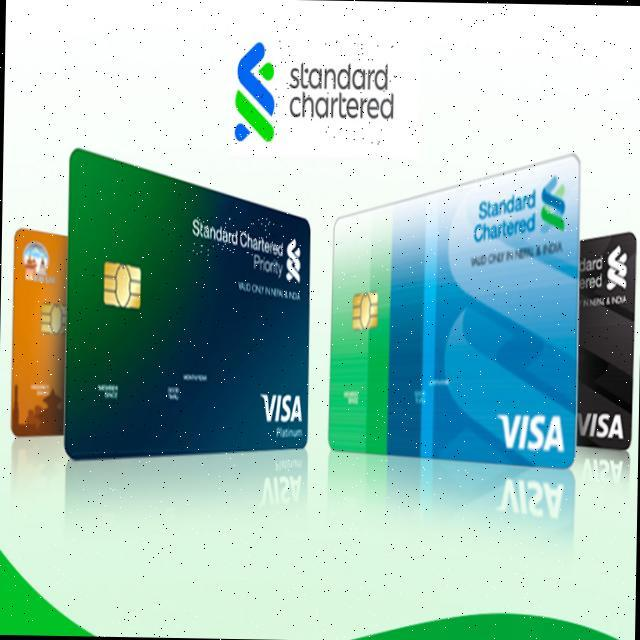Standard Chartered: (233, 39, 396, 147), (473, 172, 565, 247), (192, 217, 284, 258), (606, 245, 628, 290), (285, 238, 301, 283)
